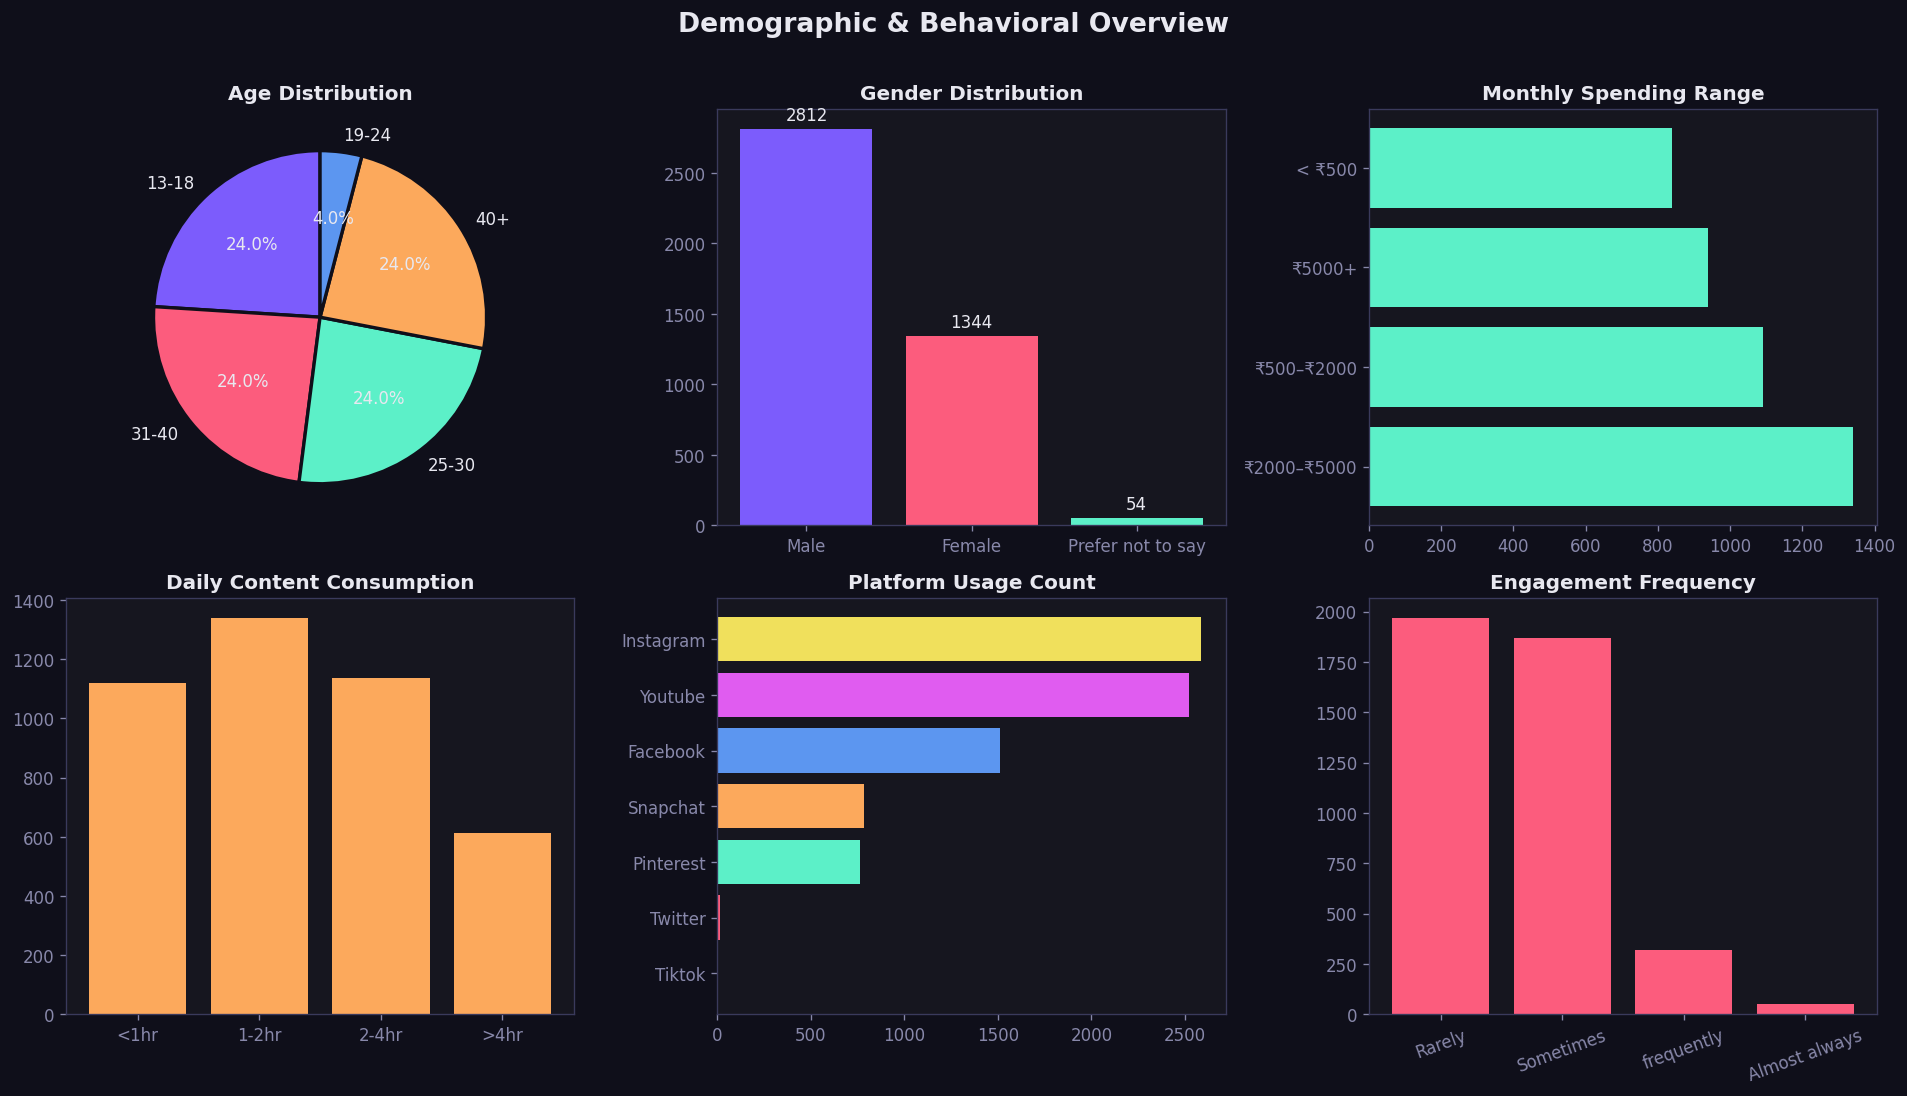

Layout of this report page (visuals, bound fields, positions):
{"tool":"tableau","page":{"name":"Dashboard 1","canvas":[1000,1000],"units":"permille","ordinal":0},"visuals":[{"type":"worksheet","title":"Sheet 4","mark":"Automatic","box":[5,8.6,990,99.4]},{"type":"worksheet","title":"Sheet 2","mark":"Square","rows":["How often have you purchased a product because of an influen"],"cols":["Which ad format influences you the most?"],"box":[5,108,419.6,349.2]},{"type":"worksheet","title":"Sheet 1","mark":"Automatic","rows":["Sheet1_DD428C90A99B41F3969C1B22C1C76BB1"],"cols":["Age Group"],"box":[424.6,108,470.7,349.2]},{"type":"worksheet","title":"Sheet 3","mark":"Automatic","rows":["What factor makes you trust an influencer the most?"],"cols":["Sheet1_DD428C90A99B41F3969C1B22C1C76BB1"],"box":[5,457.2,419.6,349.1]},{"type":"worksheet","title":"Sheet 5","mark":"Bar","rows":["How often have you purchased a product because of an influen"],"cols":["Calculation_2661418041958400","Sheet1_DD428C90A99B41F3969C1B22C1C76BB1"],"box":[424.6,457.2,470.7,349.1]},{"type":"parameter","param":"[Parameters].[Parameter 1]","box":[224.4,804.5,678.9,54]},{"type":"worksheet","title":"Sheet 6","mark":"Automatic","box":[5,806.3,890.3,185.1]}]}

Visuals, with their boxes on the dashboard's canvas, which has no fixed pixel size, in thousandths of its width and height (x1, y1, x2, y2). These are canvas units, not pixel positions in the 1907x1096 screenshot, which may show the page scaled, cropped or inside an application window:
"Sheet 4" worksheet: x1=5, y1=9, x2=995, y2=108
"Sheet 2" worksheet (Square marks): x1=5, y1=108, x2=425, y2=457
"Sheet 1" worksheet: x1=425, y1=108, x2=895, y2=457
"Sheet 3" worksheet: x1=5, y1=457, x2=425, y2=806
"Sheet 5" worksheet (Bar marks): x1=425, y1=457, x2=895, y2=806
parameter: x1=224, y1=804, x2=903, y2=858
"Sheet 6" worksheet: x1=5, y1=806, x2=895, y2=991
